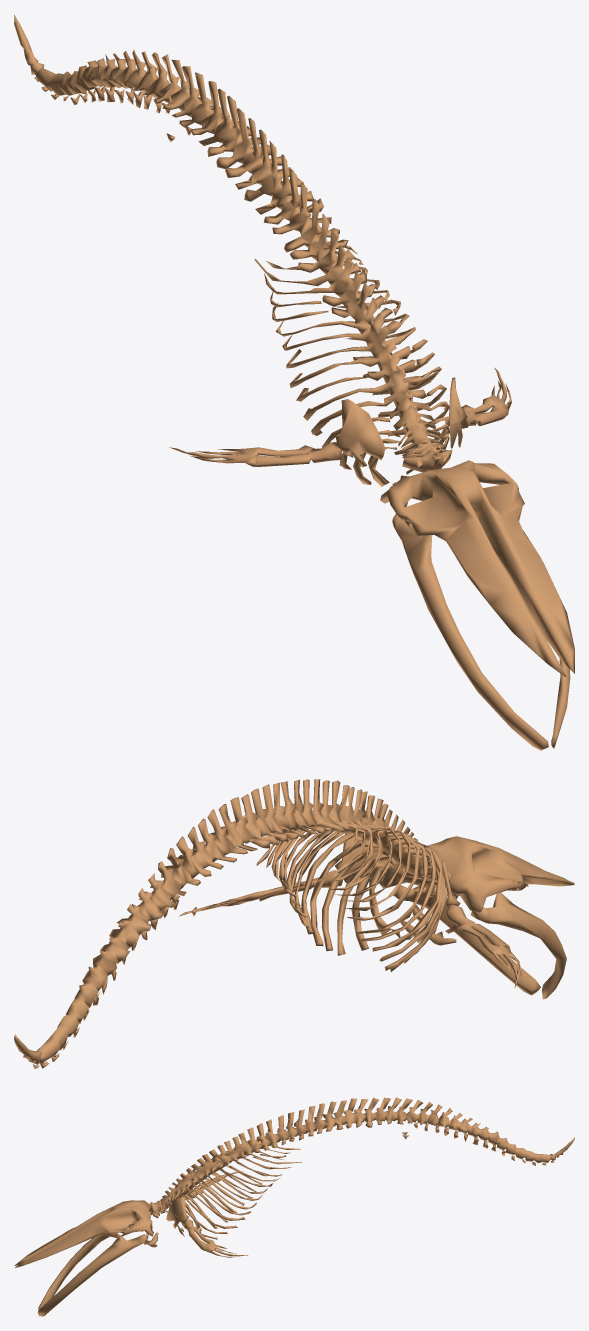
The model's file is NHM Blue Whale 6k.obj.
The picture shows the model from 3 angles, top to bottom: view 1: azimuth 30°, elevation 25°; view 2: azimuth 150°, elevation 25°; view 3: azimuth 270°, elevation 25°; orthographic projection. The views are drawn at different scales.
Parts seen in each view (by area): view 1: Ribcage; view 2: Ribcage; view 3: Ribcage.
Boxes of the visible parts, x1,y1,x2,y2 form: Ribcage: (14, 14, 574, 750); Ribcage: (14, 779, 574, 1068); Ribcage: (14, 1097, 574, 1316).
Bounding box in the file's own units: 13.22 × 16.41 × 38.42.
